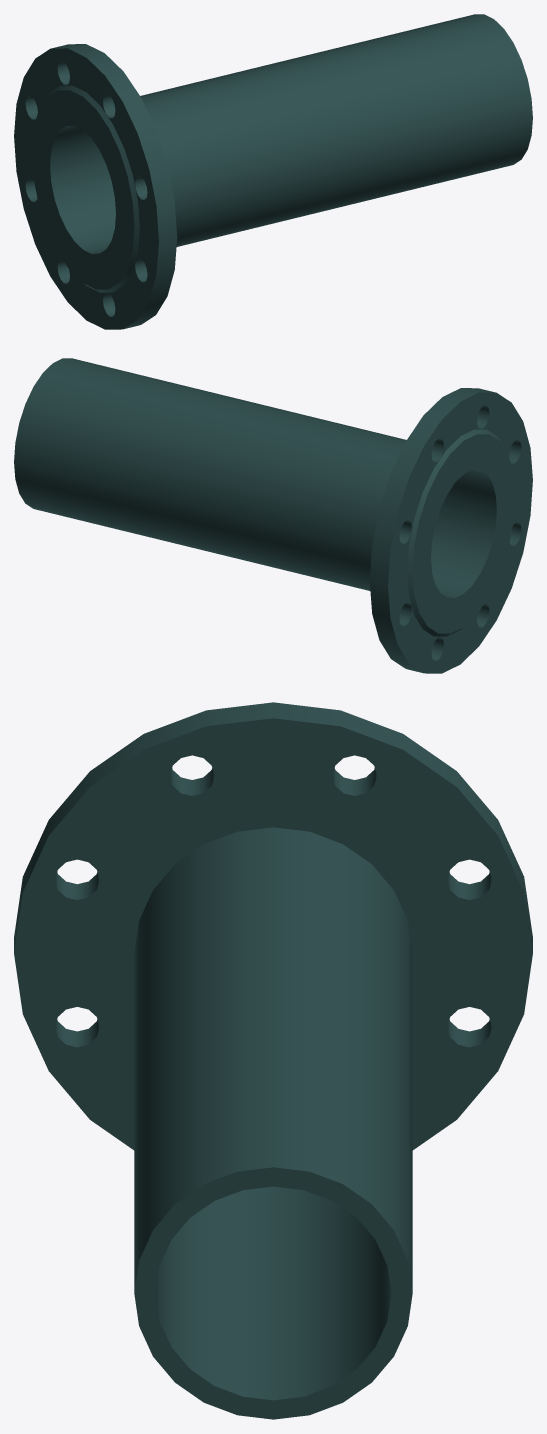
File: FSPIGOT.glb
The picture shows the model from 3 angles, top to bottom: view 1: azimuth 30°, elevation 25°; view 2: azimuth 150°, elevation 25°; view 3: azimuth 270°, elevation 25°; orthographic projection. The views are drawn at different scales.
Parts seen in each view (by area): view 1: RFF---100360FL16EET(400); view 2: RFF---100360FL16EET(400); view 3: RFF---100360FL16EET(400).
Boxes of the visible parts, left/top/right/bottom form: RFF---100360FL16EET(400): left=14, top=14, right=532, bottom=329; RFF---100360FL16EET(400): left=14, top=358, right=532, bottom=673; RFF---100360FL16EET(400): left=14, top=702, right=532, bottom=1419.
Size of the model in its own units: 0.36 by 0.22 by 0.22.
